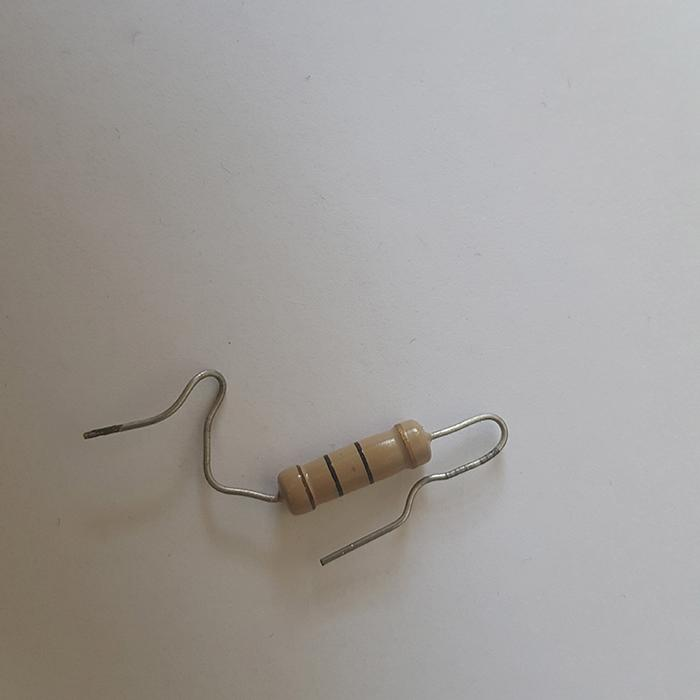resistor: (277, 417, 434, 515)
